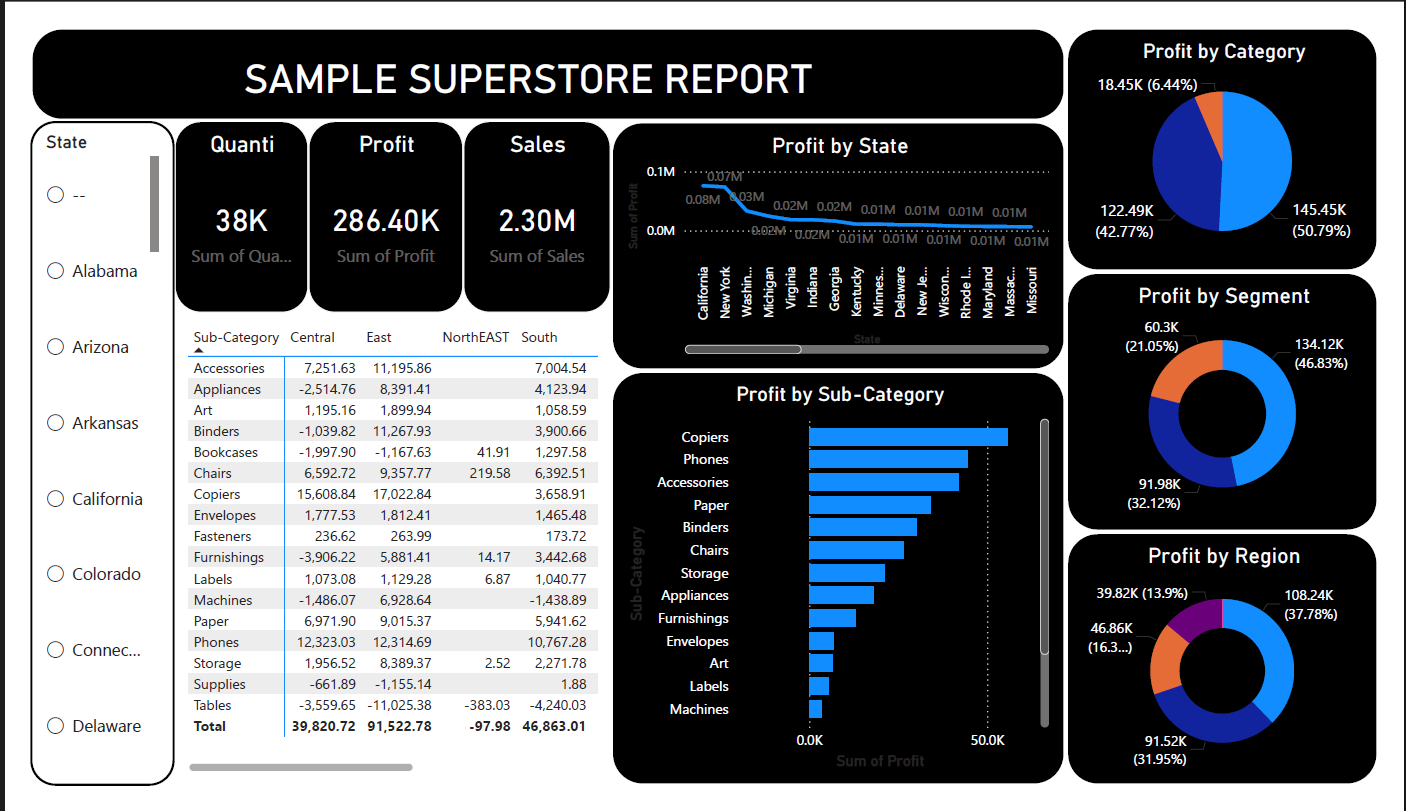

Layout of this report page (visuals, bound fields, positions):
{"tool":"powerbi","page":{"name":"Page 1","canvas":[1280,720],"ordinal":0},"visuals":[{"type":"textbox","box":[0,0,983.2,89.3],"z":0},{"type":"pieChart","title":"Profit by Category","fields":{"Category":["Table_1.Category"],"Y":["Sum(Table_1.Profit)"]},"box":[983.2,0,297.1,232.3],"z":1000},{"type":"donutChart","title":"Profit by Segment","fields":{"Category":["Table_1.Segment"],"Y":["Sum(Table_1.Profit)"]},"box":[983.2,232.3,297.1,247],"z":2000},{"type":"donutChart","title":"Profit by Region","fields":{"Category":["Table_1.Region"],"Y":["Sum(Table_1.Profit)"]},"box":[983.2,479.4,297.1,240.9],"z":3000},{"type":"lineChart","title":" Profit by State","fields":{"Category":["Table_1.State"],"Y":["Sum(Table_1.Profit)"]},"box":[551.5,89.3,431.7,237.2],"z":4000},{"type":"clusteredBarChart","title":" Profit by Sub-Category","fields":{"Category":["Table_1.Sub-Category"],"Y":["Sum(Table_1.Profit)"]},"box":[551.1,326.1,431.4,393.9],"z":5000},{"type":"pivotTable","fields":{"Columns":["Table_1.Region"],"Rows":["Table_1.Sub-Category"],"Values":["Sum(Table_1.Profit)"]},"box":[137.1,271.2,414.1,448.7],"z":6000},{"type":"card","title":"Sales","fields":{"Values":["Sum(Table_1.Sales)"]},"box":[411.2,89.5,139.9,181.8],"z":7000},{"type":"card","title":"Profit","fields":{"Values":["Sum(Table_1.Profit)"]},"box":[264,89.5,147.2,181.8],"z":8000},{"type":"card","title":"Quanti","fields":{"Values":["Sum(Table_1.Quantity)"]},"box":[137.1,89.5,127,181.8],"z":9000},{"type":"listSlicer","fields":{"Values":["Table_1.State"]},"box":[0,89.5,137.1,630.5],"z":9001}]}

Visuals, with their boxes in screenshot pixels (x1, y1, x2, y2), scaled from the page's 1280x720 canvas onto the 1406x811 screenshot:
textbox: l=0, t=0, r=1080, b=101
"Profit by Category" pieChart: l=1080, t=0, r=1405, b=262
"Profit by Segment" donutChart: l=1080, t=262, r=1405, b=540
"Profit by Region" donutChart: l=1080, t=540, r=1405, b=810
" Profit by State" lineChart: l=606, t=101, r=1080, b=368
" Profit by Sub-Category" clusteredBarChart: l=605, t=367, r=1079, b=810
pivotTable - Table_1.Region x Table_1.Sub-Category: l=151, t=305, r=605, b=810
"Sales" card: l=452, t=101, r=605, b=306
"Profit" card: l=290, t=101, r=452, b=306
"Quanti" card: l=151, t=101, r=290, b=306
listSlicer - Table_1.State: l=0, t=101, r=151, b=810
